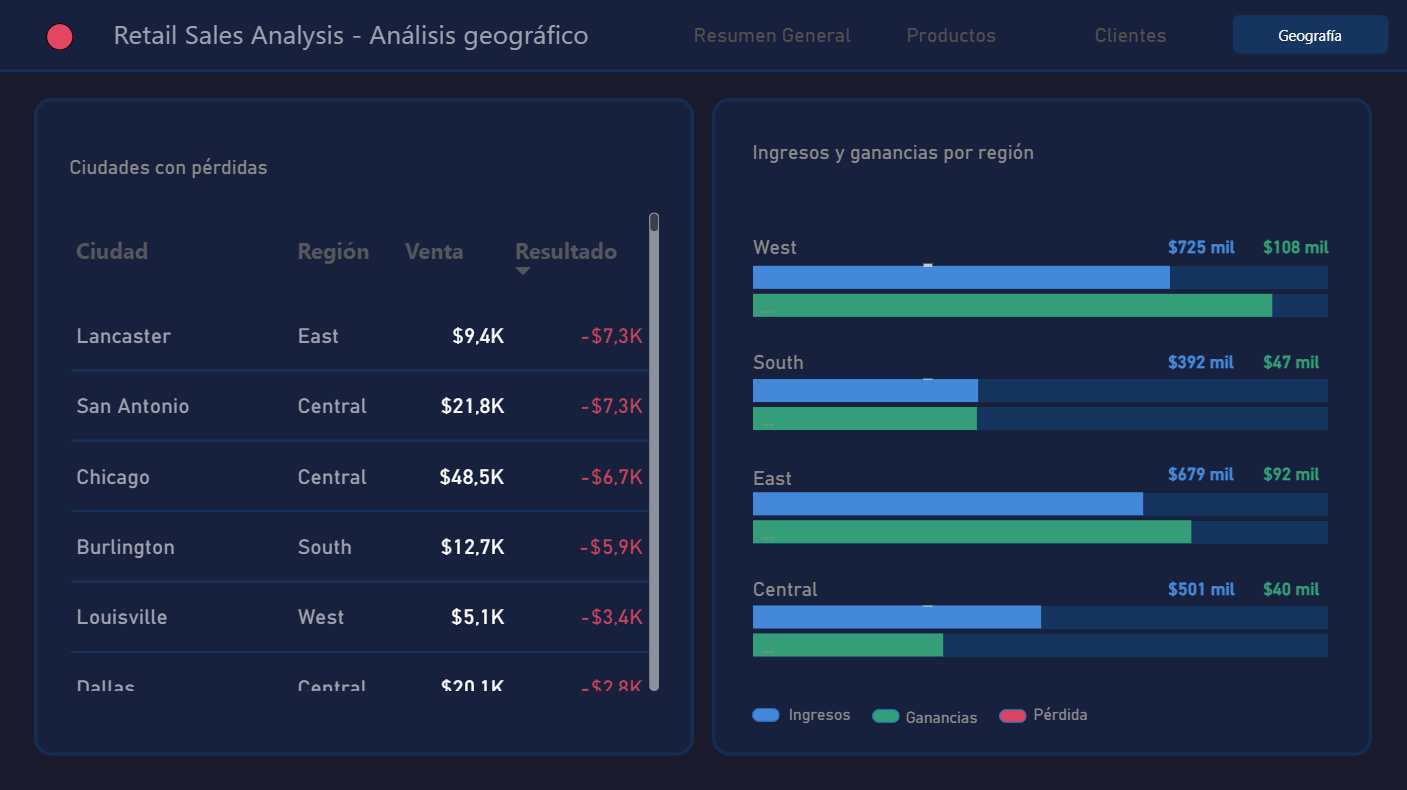

This screenshot's page, from the dashboard's own definition file:
{"tool":"powerbi","page":{"name":"Geografía","canvas":[1280,720],"ordinal":3},"visuals":[{"type":"shape","box":[648,91,600,598],"z":0},{"type":"shape","box":[685,268.9,522.8,20.6],"z":1000},{"type":"shape","box":[685,243.9,522.8,20.6],"z":2000},{"type":"shape","box":[685,371.7,522.8,20.6],"z":3000},{"type":"shape","box":[685,346.7,522.8,20.6],"z":4000},{"type":"shape","box":[685,475,522.8,20.6],"z":5000},{"type":"shape","box":[685,450,522.8,20.6],"z":6000},{"type":"shape","box":[685,577.8,522.8,20.6],"z":7000},{"type":"shape","box":[685,552.8,522.8,20.6],"z":8000},{"type":"clusteredBarChart","title":"Ingresos por región","fields":{"Category":["vw_ventas_por_region.Region"],"Y":["Sum(vw_ventas_por_region.Ingresos)"]},"box":[685,235.8,522.5,342.5],"z":9000},{"type":"clusteredBarChart","title":"Ingresos por región","fields":{"Category":["vw_ventas_por_region.Region"],"Y":["Sum(vw_ventas_por_region.Ganancia)"]},"box":[685,260.8,522.5,342.5],"z":10000},{"type":"shape","box":[0,0,1280,66.2],"z":11000},{"type":"shape","box":[0,60,1280,12.3],"z":12000},{"type":"textbox","title":"Retail Sales Analysis - Resumen General","box":[98.8,11.2,586.2,48.8],"z":13000},{"type":"shape","box":[1120.8,14.6,143.1,36.9],"z":14000},{"type":"pageNavigator","box":[626.5,12.6,642.6,40.4],"z":15000},{"type":"shape","box":[43,23,25,25],"z":16000},{"type":"shape","box":[32,91,600,598],"z":17000},{"type":"tableEx","title":"Ciudades con perdidas","fields":{"Values":["vw_ciudades_con_perdidas.City","vw_ciudades_con_perdidas.Region","vw_ciudades_con_perdidas.MedidaVentas","vw_ciudades_con_perdidas.MedidaResultado"]},"box":[58.8,190,546.2,445],"z":18000},{"type":"textbox","title":"Ingresos y ganancias por región","box":[680,128.9,371.1,26.7],"z":19000},{"type":"textbox","title":"Ciudades con pérdidas","box":[58.8,142.5,371.2,26.2],"z":20000},{"type":"textbox","title":"West","box":[685,215.3,163,29],"z":21000},{"type":"textbox","title":"South","box":[685,320,162.8,26.7],"z":22000},{"type":"textbox","title":"East","box":[685,425,162.8,25],"z":23000},{"type":"textbox","title":"Central","box":[685,526.1,162.8,26.7],"z":24000},{"type":"cardVisual","fields":{"Data":["Sum(vw_ventas_por_region.Ganancia)"]},"box":[1137.7,207.9,85.4,33.6],"z":25000},{"type":"cardVisual","fields":{"Data":["Sum(vw_ventas_por_region.Ganancia)"]},"box":[1137.7,313.1,85.4,33.6],"z":26000},{"type":"cardVisual","fields":{"Data":["Sum(vw_ventas_por_region.Ganancia)"]},"box":[1137.7,414.9,85.4,33.6],"z":27000},{"type":"cardVisual","fields":{"Data":["Sum(vw_ventas_por_region.Ganancia)"]},"box":[1137.7,519.2,85.4,33.6],"z":28000},{"type":"cardVisual","fields":{"Data":["Sum(vw_ventas_por_region.Ingresos)"]},"box":[1050.6,207.9,94,33.6],"z":29000},{"type":"cardVisual","fields":{"Data":["Sum(vw_ventas_por_region.Ingresos)"]},"box":[1050.6,313.1,94,33.6],"z":30000},{"type":"cardVisual","fields":{"Data":["Sum(vw_ventas_por_region.Ingresos)"]},"box":[1050.6,414.9,94,33.6],"z":31000},{"type":"cardVisual","fields":{"Data":["Sum(vw_ventas_por_region.Ingresos)"]},"box":[1050.6,519.2,94,33.6],"z":32000},{"type":"shape","box":[684.7,645.8,25.3,12.6],"z":33000},{"type":"textbox","title":"Ingresos","box":[710,643.9,72,17.5],"z":34000},{"type":"shape","box":[794,646.1,25.3,12.6],"z":35000},{"type":"textbox","title":"Ganancias","box":[820.9,646.8,72,17.5],"z":36000},{"type":"shape","box":[908.7,646.1,25.3,12.6],"z":37000},{"type":"textbox","title":"Pérdida","box":[928.9,643.9,72,17.5],"z":38000}]}

Visuals, with their boxes in screenshot pixels (x1, y1, x2, y2), scaled from the page's 1280x720 canvas onto the 1407x790 screenshot:
shape: [712, 100, 1372, 756]
shape: [753, 295, 1328, 318]
shape: [753, 268, 1328, 290]
shape: [753, 408, 1328, 430]
shape: [753, 380, 1328, 403]
shape: [753, 521, 1328, 544]
shape: [753, 494, 1328, 516]
shape: [753, 634, 1328, 657]
shape: [753, 607, 1328, 629]
"Ingresos por región" clusteredBarChart: [753, 259, 1327, 635]
"Ingresos por región" clusteredBarChart: [753, 286, 1327, 662]
shape: [0, 0, 1406, 73]
shape: [0, 66, 1406, 79]
"Retail Sales Analysis - Resumen General" textbox: [109, 12, 753, 66]
shape: [1232, 16, 1389, 57]
pageNavigator: [689, 14, 1395, 58]
shape: [47, 25, 75, 53]
shape: [35, 100, 695, 756]
"Ciudades con perdidas" tableEx: [65, 208, 665, 697]
"Ingresos y ganancias por región" textbox: [747, 141, 1155, 171]
"Ciudades con pérdidas" textbox: [65, 156, 473, 185]
"West" textbox: [753, 236, 932, 268]
"South" textbox: [753, 351, 932, 380]
"East" textbox: [753, 466, 932, 494]
"Central" textbox: [753, 577, 932, 607]
cardVisual - Sum(vw_ventas_por_region.Ganancia): [1251, 228, 1344, 265]
cardVisual - Sum(vw_ventas_por_region.Ganancia): [1251, 344, 1344, 380]
cardVisual - Sum(vw_ventas_por_region.Ganancia): [1251, 455, 1344, 492]
cardVisual - Sum(vw_ventas_por_region.Ganancia): [1251, 570, 1344, 607]
cardVisual - Sum(vw_ventas_por_region.Ingresos): [1155, 228, 1258, 265]
cardVisual - Sum(vw_ventas_por_region.Ingresos): [1155, 344, 1258, 380]
cardVisual - Sum(vw_ventas_por_region.Ingresos): [1155, 455, 1258, 492]
cardVisual - Sum(vw_ventas_por_region.Ingresos): [1155, 570, 1258, 607]
shape: [753, 709, 780, 722]
"Ingresos" textbox: [780, 707, 860, 726]
shape: [873, 709, 901, 723]
"Ganancias" textbox: [902, 710, 981, 729]
shape: [999, 709, 1027, 723]
"Pérdida" textbox: [1021, 707, 1100, 726]
